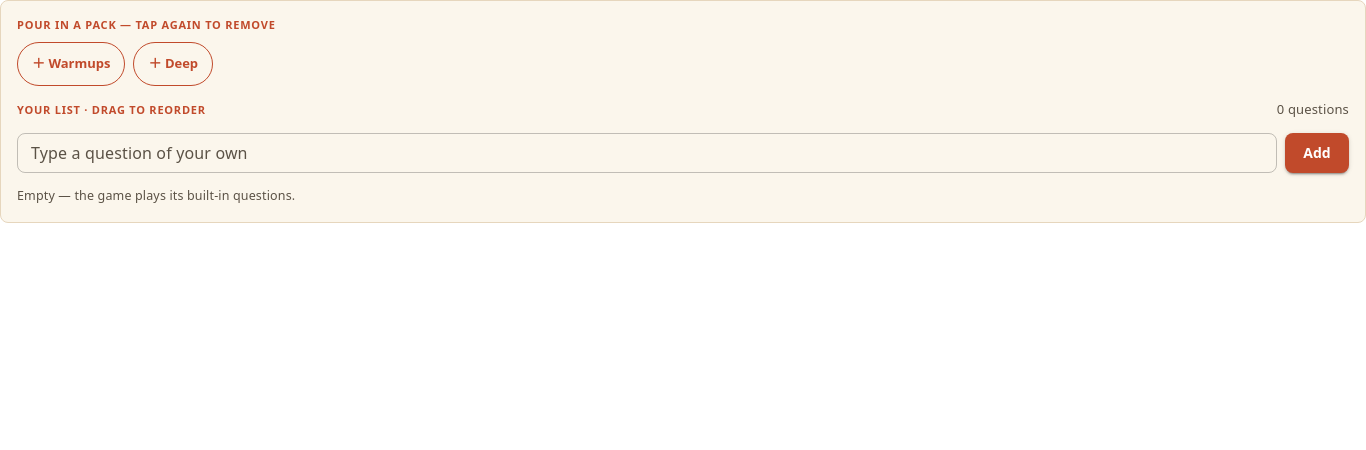
PromptSetEditor (Cycle 11) › A10 pours a pack into the list, deduping across packs and marking a full pack added
This screenshot has width=1366, height=450.
Click the button "＋ Warmups": (71, 64) [17, 42, 126, 86]
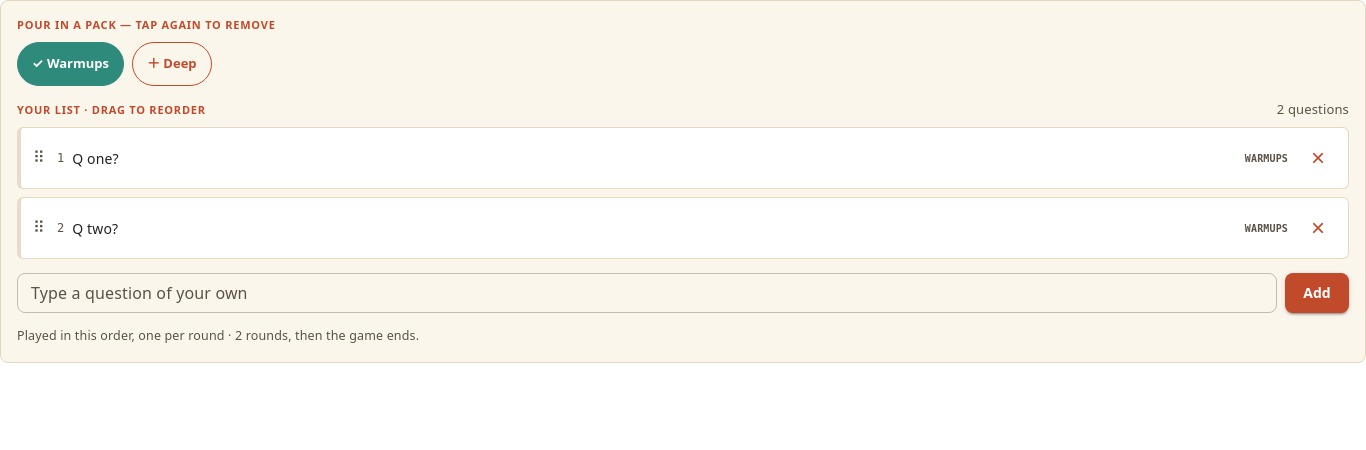
Now the text "Q one?" is shown, box [72, 148, 119, 168]
Now the button "✓ Warmups" is shown, box [17, 42, 124, 86]
// Deep shares 'Q two?' with Warmups — only the genuinely new question is appended.
Click the button "＋ Deep": (172, 64) [132, 42, 212, 86]
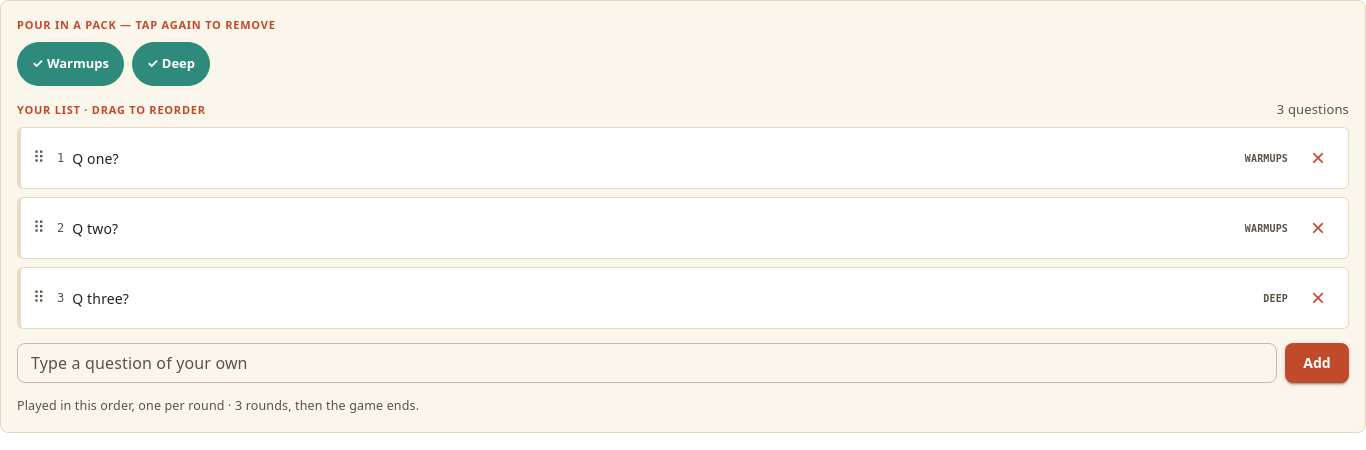
// F1/A7: re-tapping a fully-added pack toggles it OFF — its questions leave the list.
Click the button "✓ Warmups": (70, 64) [17, 42, 124, 86]
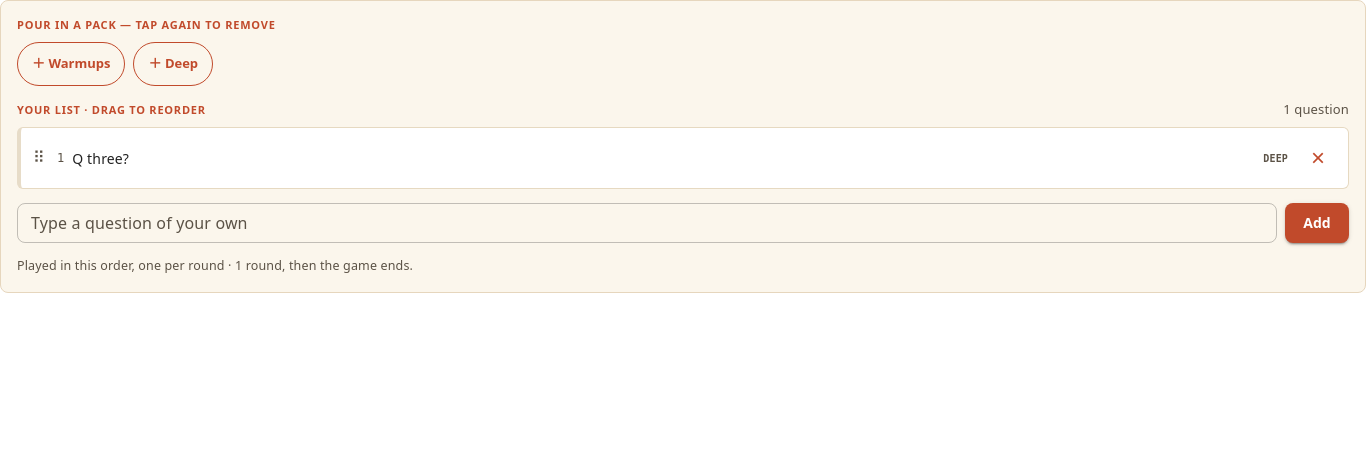
Now the text "Q one?" is gone
